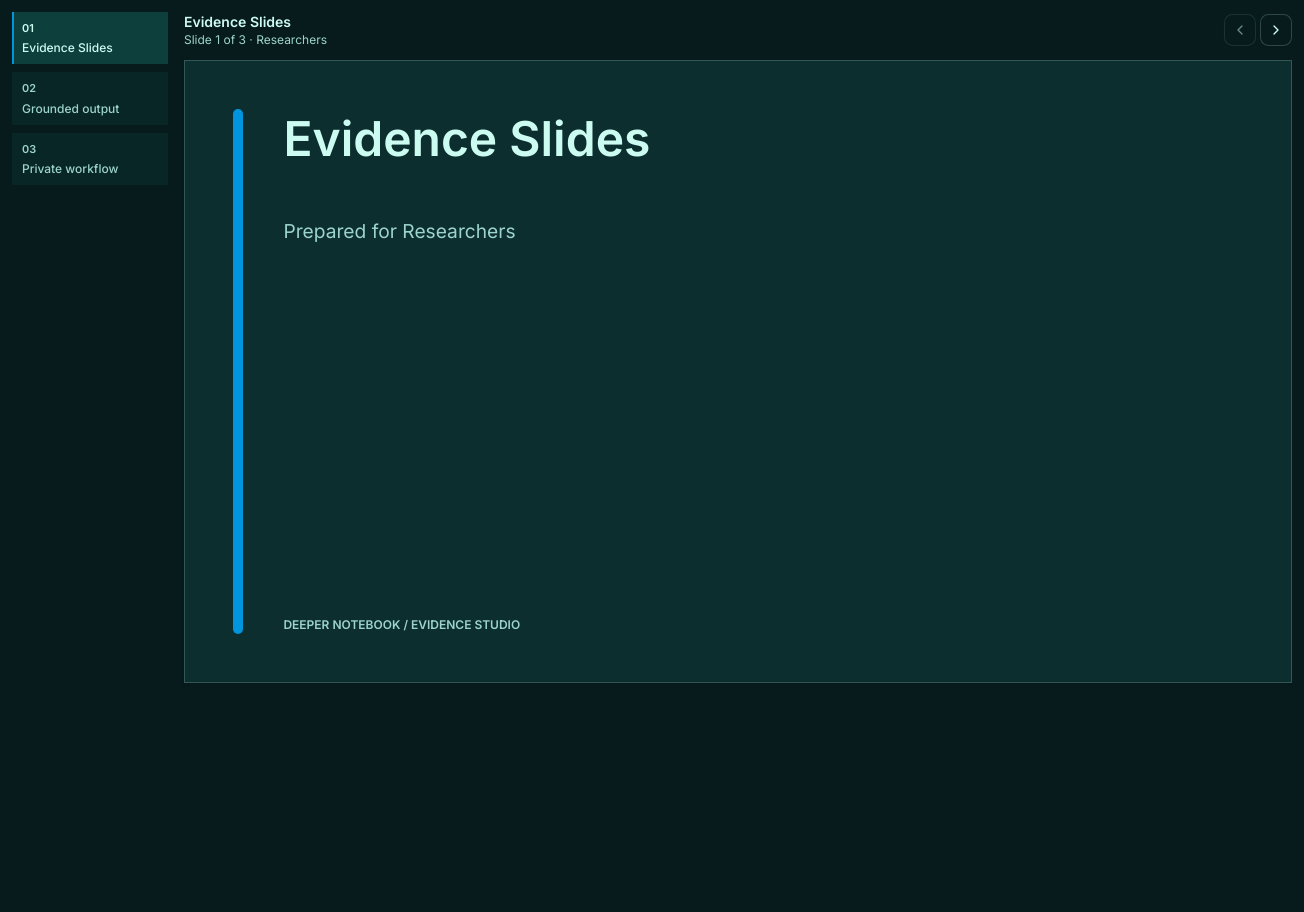
Scenario: SlideDeckViewer › reveals speaker notes, visual direction, and citations
Click the button named "Next slide".
click(1276, 30)  # box 1260,14 -> 1292,46
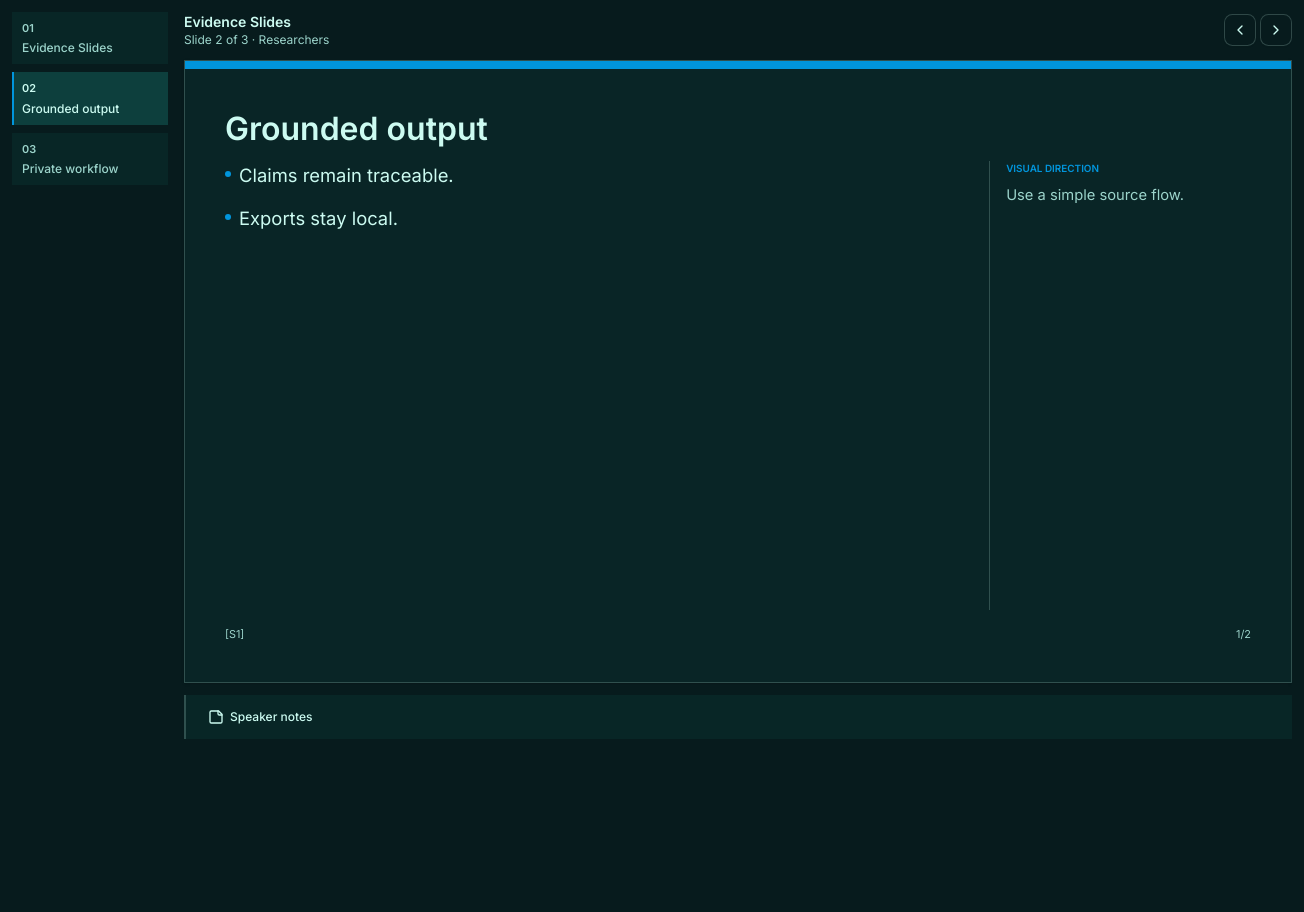
Check: the text "Explain the evidence trail." is not shown
Check: the text "[S1]" is shown, box 225,626 -> 244,642
Click the button with aria-label "Show speaker notes".
click(260, 717)  # box 198,703 -> 322,731
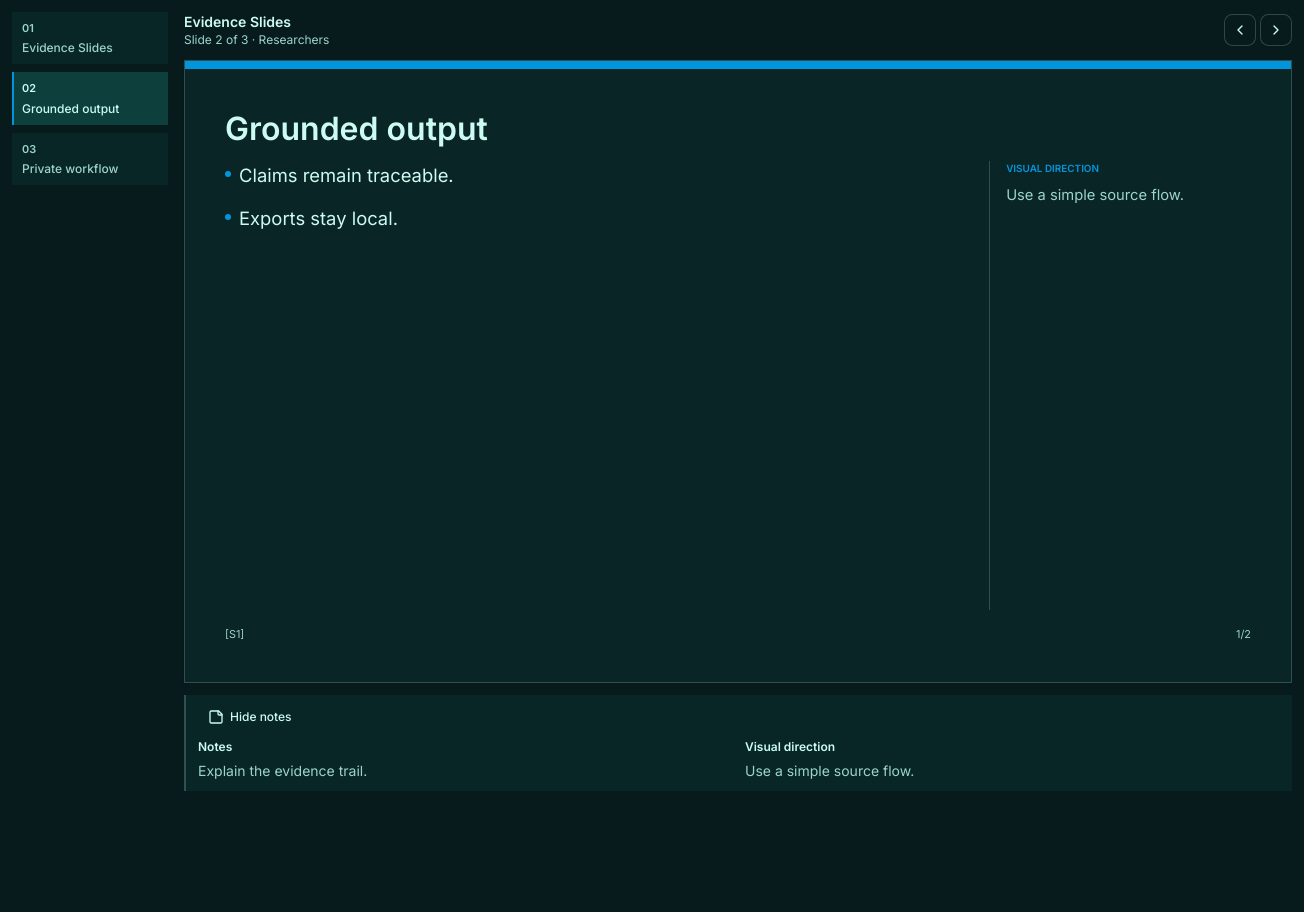
Check: the text "Explain the evidence trail." is shown, box 198,762 -> 367,779
Check: the text "Use a simple source flow." is shown 2 times, box 1006,186 -> 1184,204; 745,762 -> 914,779
